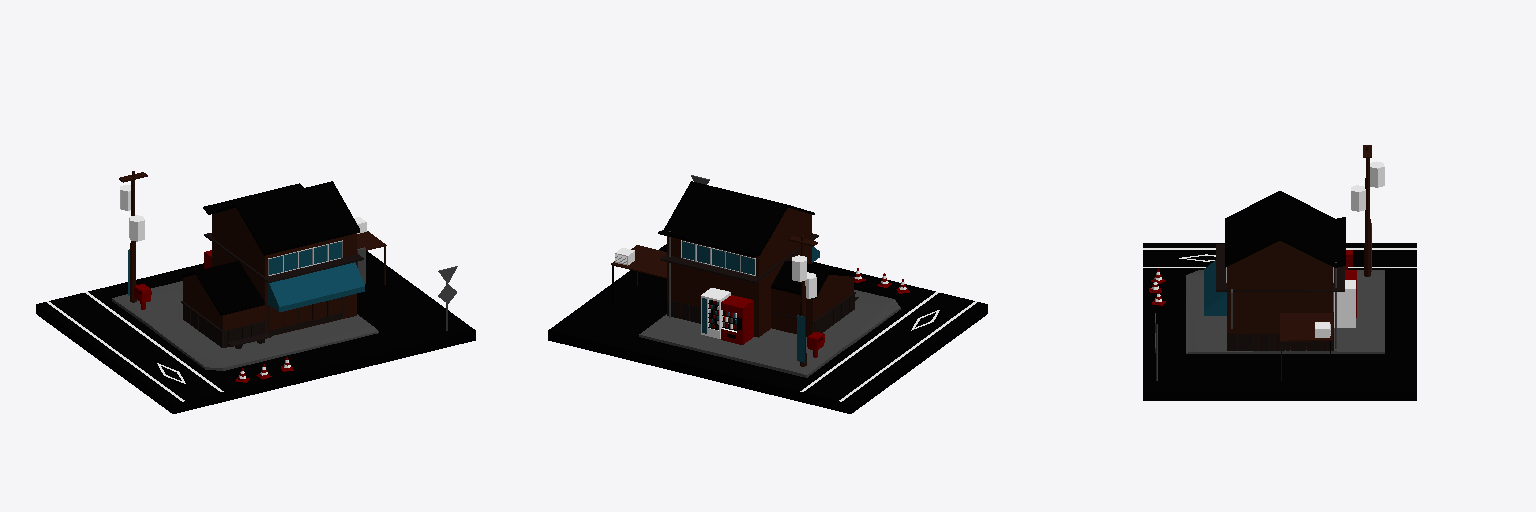
File: paysage.obj
The picture shows the model from 3 angles: view 1: azimuth 30°, elevation 25°; view 2: azimuth 150°, elevation 25°; view 3: azimuth 270°, elevation 25°; orthographic projection.
Parts seen in each view (by area): view 1: sol_route_Cube.003, house, trottoir_trottoir_Cube.005, poteau.001_poteau_Cylinder.000, rebord_Cube.001, plancheMural1_Plane.002, CadreFenetresHautes1.001_Plane.007; view 2: sol_route_Cube.003, house, trottoir_trottoir_Cube.005, poteau.001_poteau_Cylinder.000, box.002_machineBoisson2_Cube.001, rebord_Cube.001, box.003_machineBoisson1_Cube.004, plancheMural1_Plane.002; view 3: sol_route_Cube.003, house, trottoir_trottoir_Cube.005, poteau.001_poteau_Cylinder.000, plancheMural1.002_Plane.004, rebord_Cube.001, box.003_machineBoisson1_Cube.004.
Part boxes in pixels (x1,y1,x2,y2): sol_route_Cube.003: (36, 251, 475, 413); house: (181, 181, 386, 347); trottoir_trottoir_Cube.005: (112, 281, 378, 370); poteau.001_poteau_Cylinder.000: (120, 171, 144, 302); rebord_Cube.001: (204, 233, 363, 282); plancheMural1_Plane.002: (183, 304, 222, 347); CadreFenetresHautes1.001_Plane.007: (268, 297, 342, 335); sol_route_Cube.003: (548, 244, 987, 413); house: (611, 181, 855, 337); trottoir_trottoir_Cube.005: (639, 290, 900, 377); poteau.001_poteau_Cylinder.000: (792, 235, 816, 366); box.002_machineBoisson2_Cube.001: (721, 295, 753, 344); rebord_Cube.001: (660, 233, 818, 282); box.003_machineBoisson1_Cube.004: (701, 288, 730, 338); plancheMural1_Plane.002: (814, 294, 854, 332); sol_route_Cube.003: (1143, 243, 1416, 400); house: (1204, 191, 1345, 380); trottoir_trottoir_Cube.005: (1186, 270, 1384, 353); poteau.001_poteau_Cylinder.000: (1351, 145, 1384, 276); plancheMural1.002_Plane.004: (1227, 334, 1332, 350); rebord_Cube.001: (1216, 244, 1344, 291); box.003_machineBoisson1_Cube.004: (1334, 280, 1355, 327).
Bounding box in the file's own units: 2.56 × 1.15 × 2.